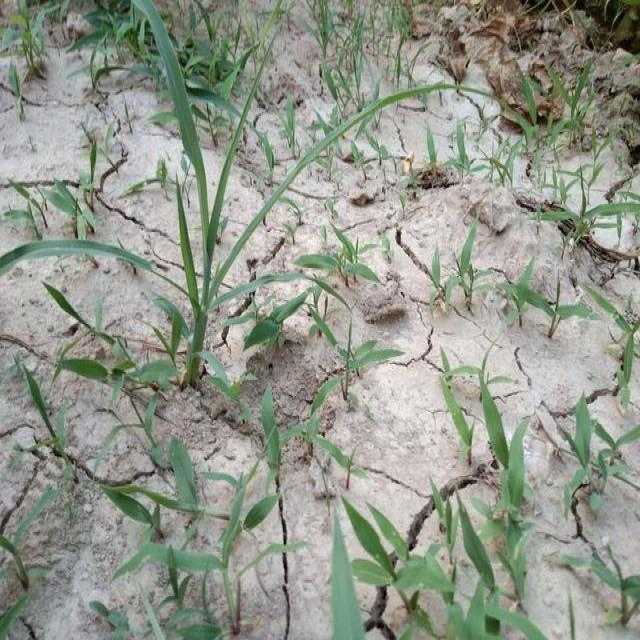weed: (149, 24, 640, 409), (8, 0, 367, 418), (400, 83, 640, 337), (322, 425, 535, 640), (94, 436, 315, 640), (542, 392, 640, 506), (557, 527, 640, 640)
